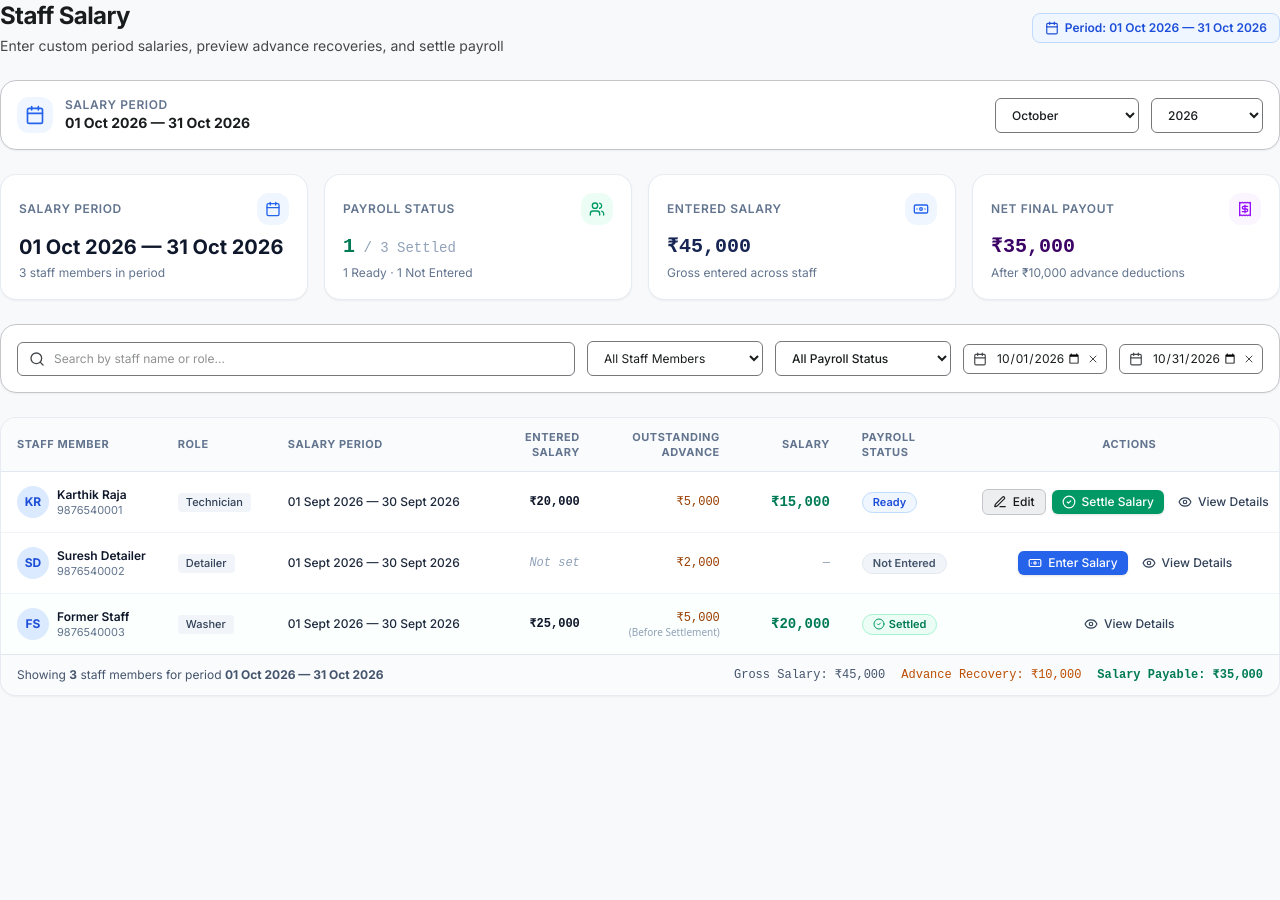
Test case: Staff Attendance & Salary › SalaryPage (/staff-salary) › 1. Renders Salary roster table with 8 columns, centered actions, and footer summary without Advance Deduction column
Expected: the heading "Staff Salary" is shown, [0,1,130,30]
Expected: the column heading "Staff Member" is shown, [1,418,162,472]
# Verify View Details still contains complete financial breakdown including Advance Recovery
Click the button "View Details" in the row of "KR" at (1223, 502), box [1170,490,1277,514]
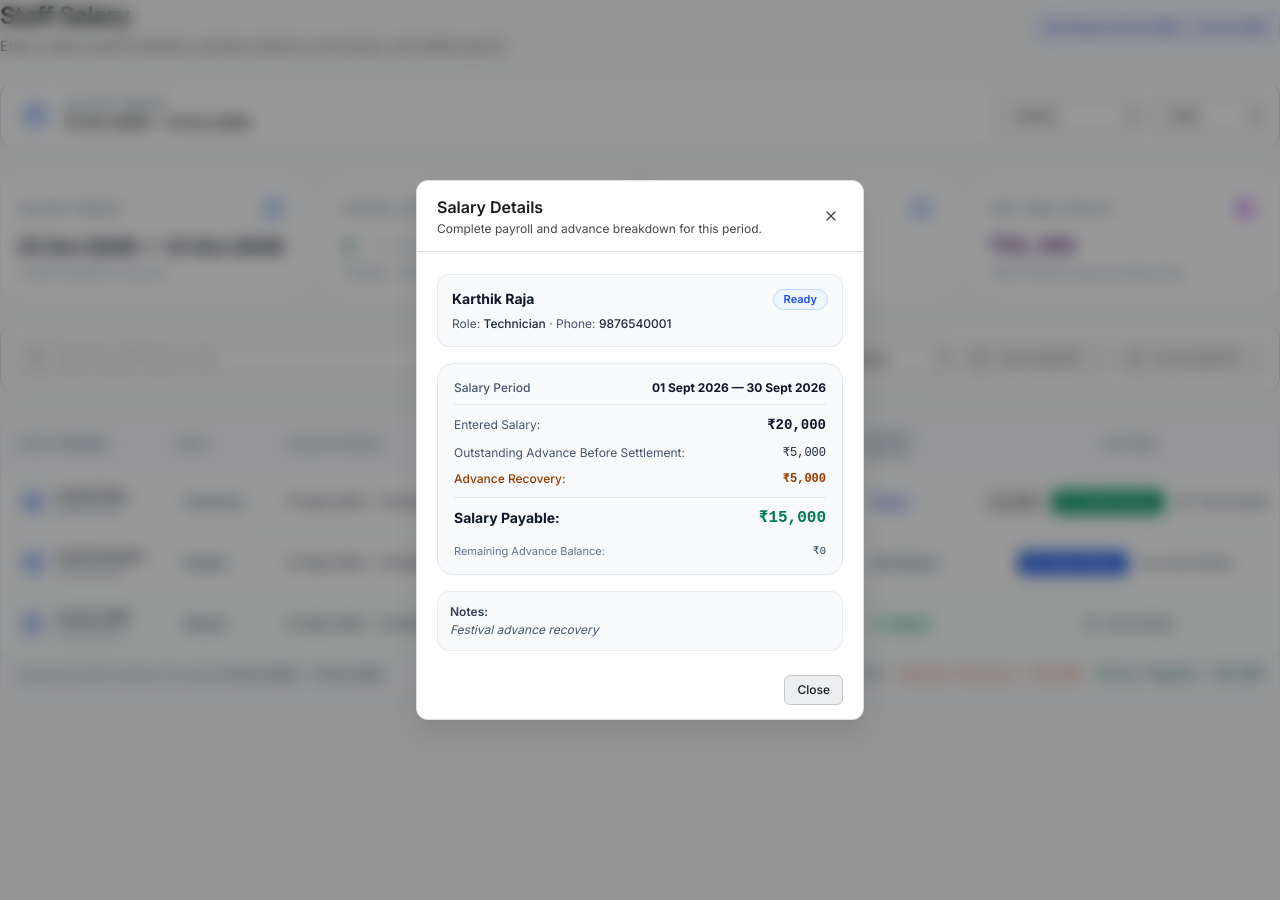
Expected: the heading "Salary Details" is shown, [437,197,543,217]
Expected: the text "Advance Recovery:" is shown, [454,470,566,486]
Expected: the text "Salary Payable:" is shown, [454,508,560,528]
